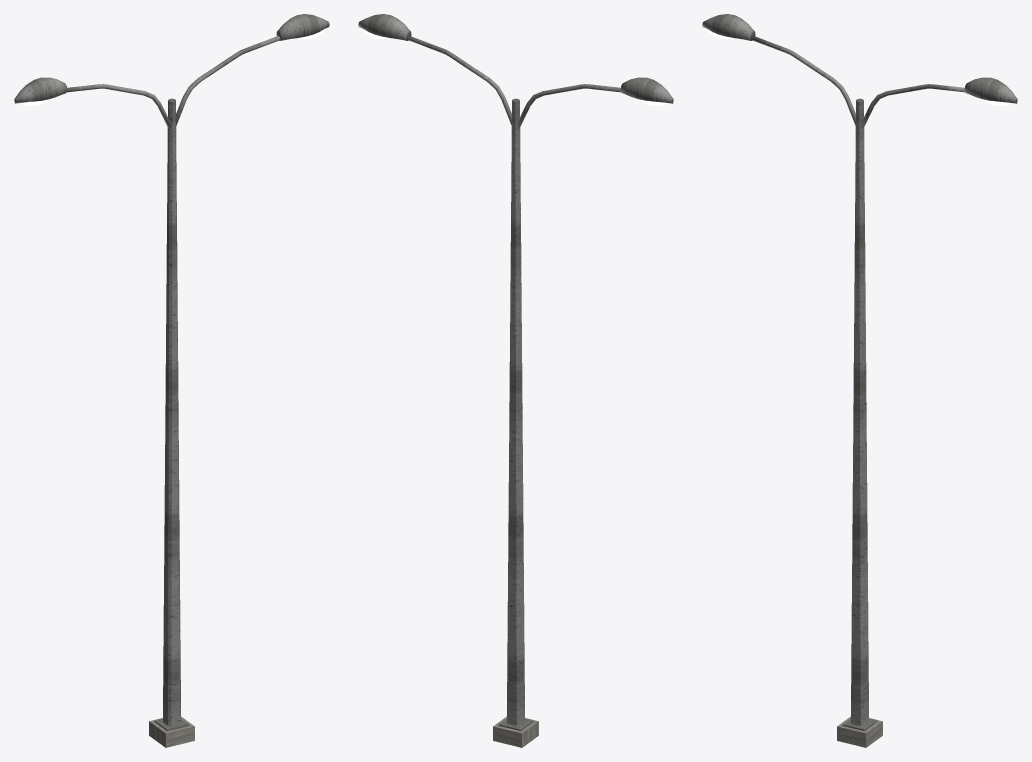
Rendered from lamp_post_steel_lod1_web.glb.
3 renders of one model, left to right at view 1: azimuth 30°, elevation 25°; view 2: azimuth 150°, elevation 25°; view 3: azimuth 330°, elevation 25°, orthographic.
Visible parts, largest first — view 1: LampPostSteel_Mesh; view 2: LampPostSteel_Mesh; view 3: LampPostSteel_Mesh.
Boxes of the visible parts, left/top/right/bottom form: LampPostSteel_Mesh: left=14, top=14, right=329, bottom=747; LampPostSteel_Mesh: left=358, top=14, right=673, bottom=747; LampPostSteel_Mesh: left=702, top=14, right=1017, bottom=747.
Bounding box in the file's own units: 4.54 × 9.55 × 0.4198.
Materials: 3 (2 with a texture image).
